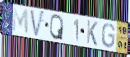1: (73, 19, 79, 43)
G: (101, 23, 116, 49)
K: (86, 19, 99, 47)
M: (12, 7, 29, 36)
Q: (49, 14, 64, 41)
V: (29, 8, 45, 39)
